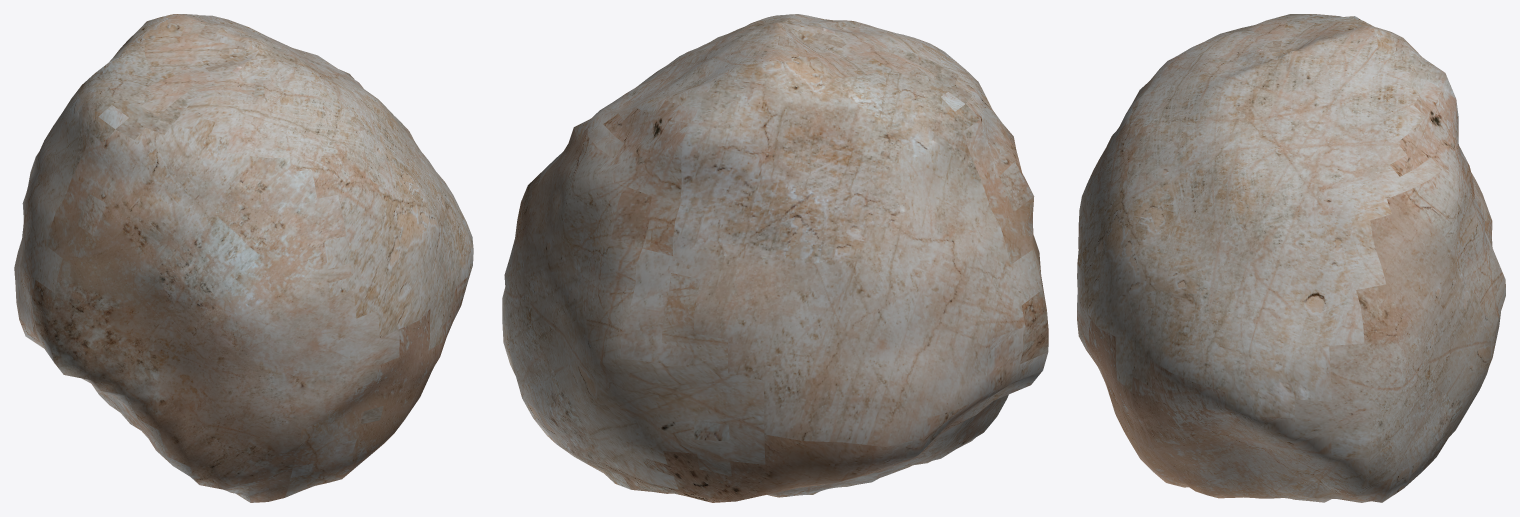
Rendered from Mountains3 1.fbx.
3 views of the same model, side by side, from view 1: azimuth 30°, elevation 25°; view 2: azimuth 150°, elevation 25°; view 3: azimuth 270°, elevation 25° (orthographic). The views are drawn at different scales.
Parts seen in each view (by area): view 1: Landscape; view 2: Landscape; view 3: Landscape.
Part boxes in pixels (<box>): Landscape: <box>14,14,473,502</box>; Landscape: <box>502,14,1048,502</box>; Landscape: <box>1077,14,1505,502</box>.
Size of the model in its own units: 306 by 293 by 262.
